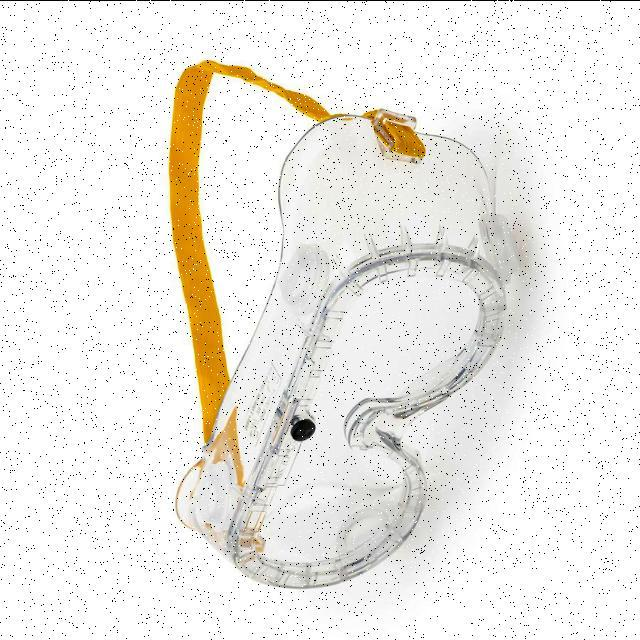Goggles: (157, 47, 526, 597)
